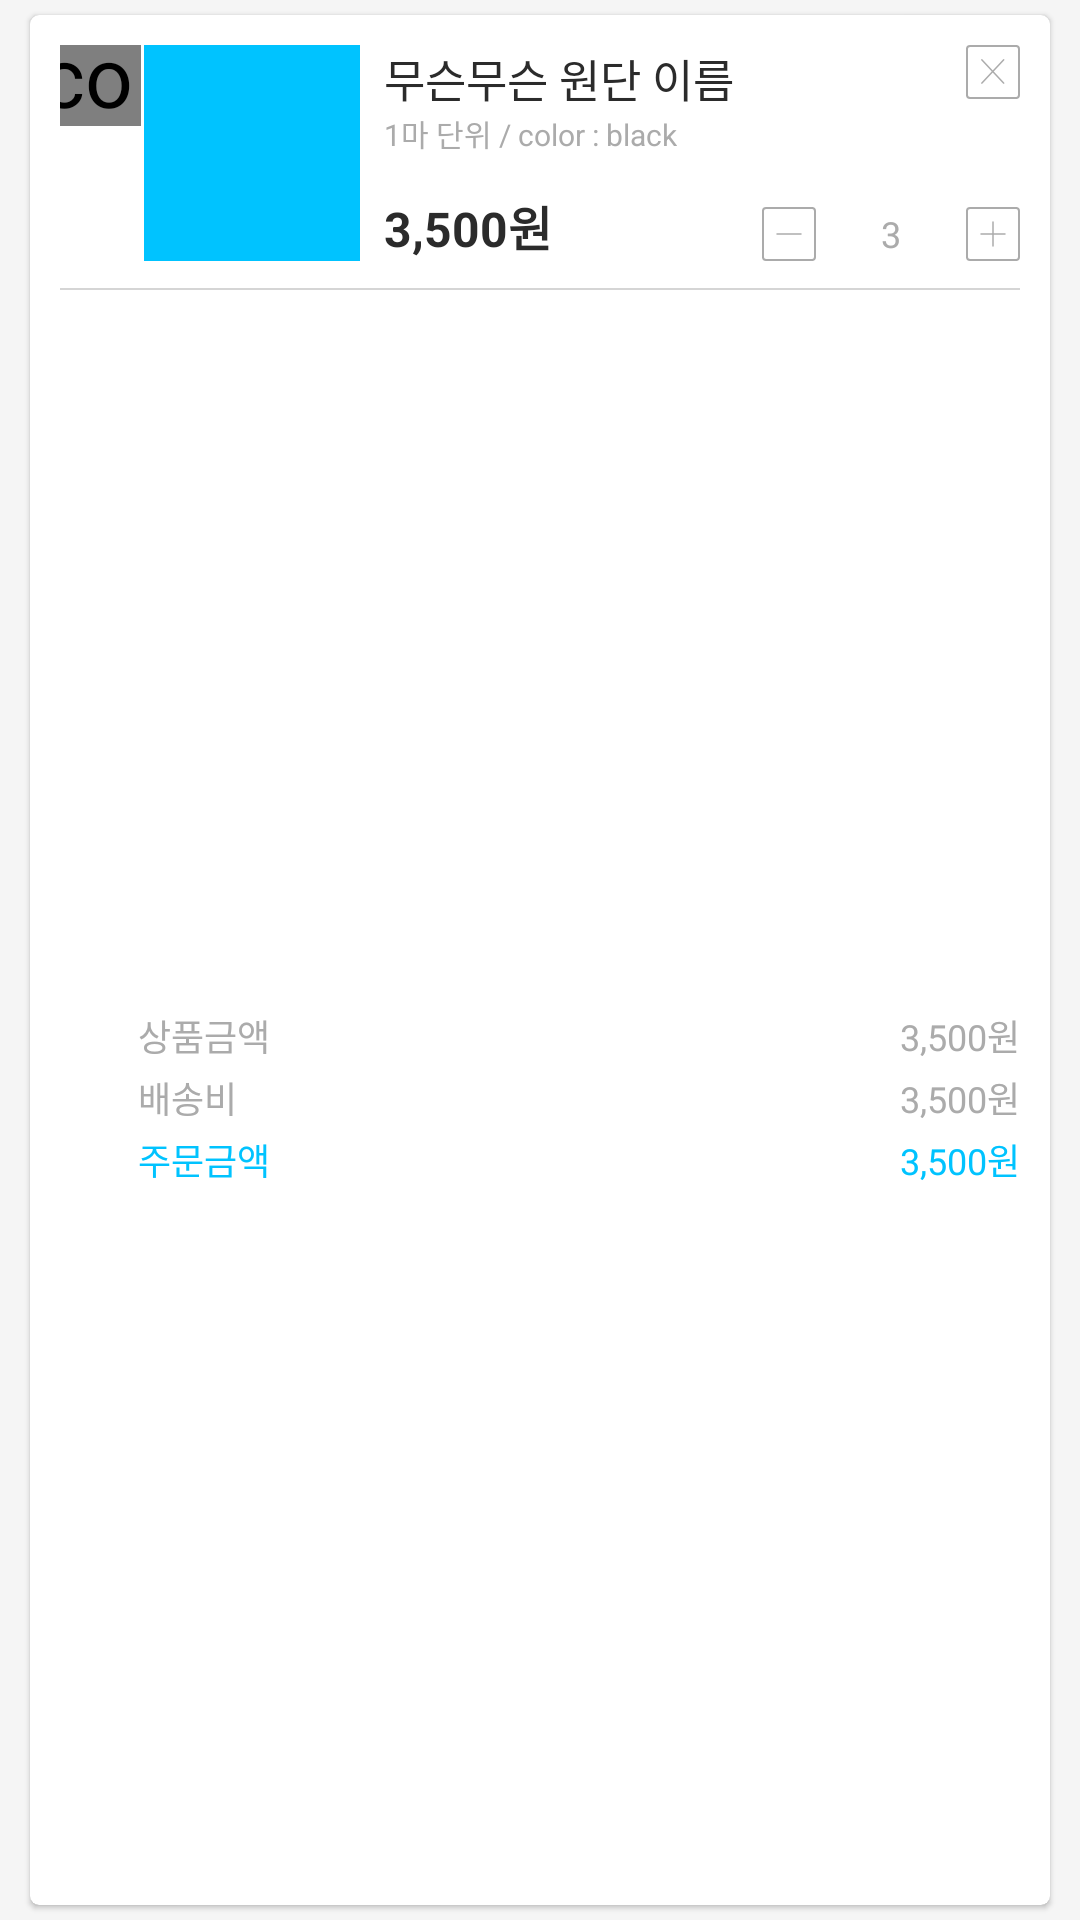

Screen size 1080*1920. Icon name, then its center in pixels as point (x, y):
delete: point (993, 72)
minus: point (789, 234)
plus: point (993, 234)
